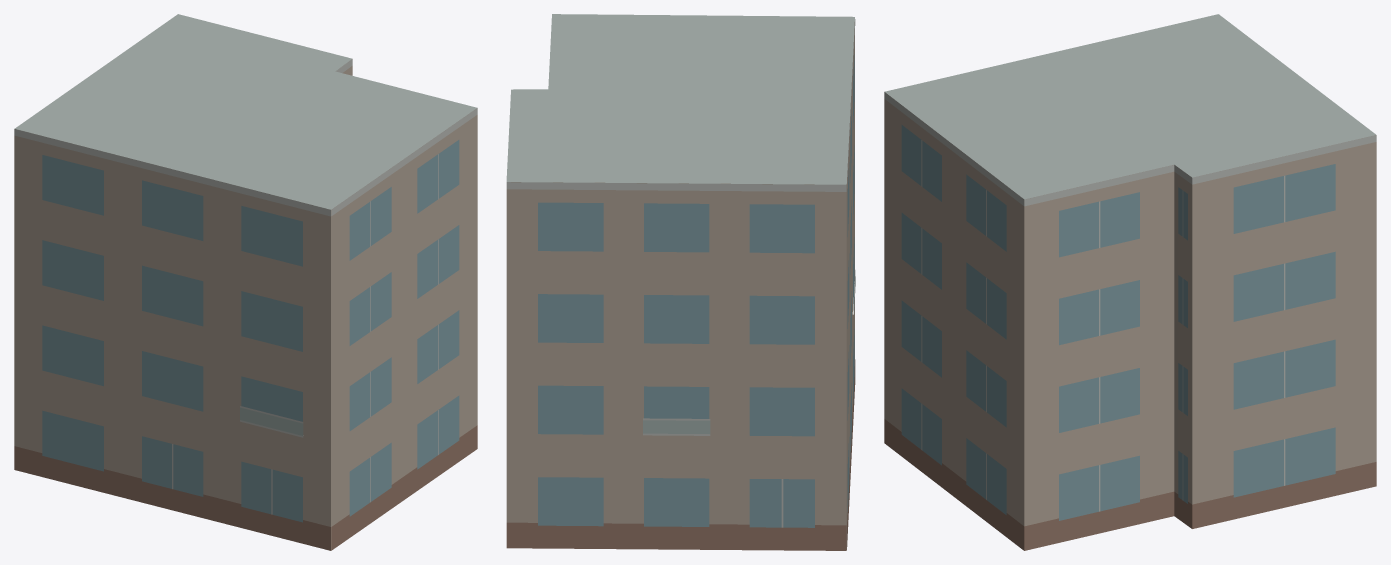
Rendered from survey-upis-32690357.glb.
3 renders of one model, left to right at view 1: azimuth 30°, elevation 25°; view 2: azimuth 150°, elevation 25°; view 3: azimuth 270°, elevation 25°, orthographic. The views are drawn at different scales.
Visible parts, largest first — view 1: survey-upis-32690357.tmp; view 2: survey-upis-32690357.tmp; view 3: survey-upis-32690357.tmp.
Part boxes in pixels (x1=…): survey-upis-32690357.tmp: x1=14, y1=14, x2=477, y2=550; survey-upis-32690357.tmp: x1=506, y1=14, x2=855, y2=550; survey-upis-32690357.tmp: x1=884, y1=14, x2=1376, y2=550.
Size of the model in its own units: 13.89 by 12.27 by 15.58.
